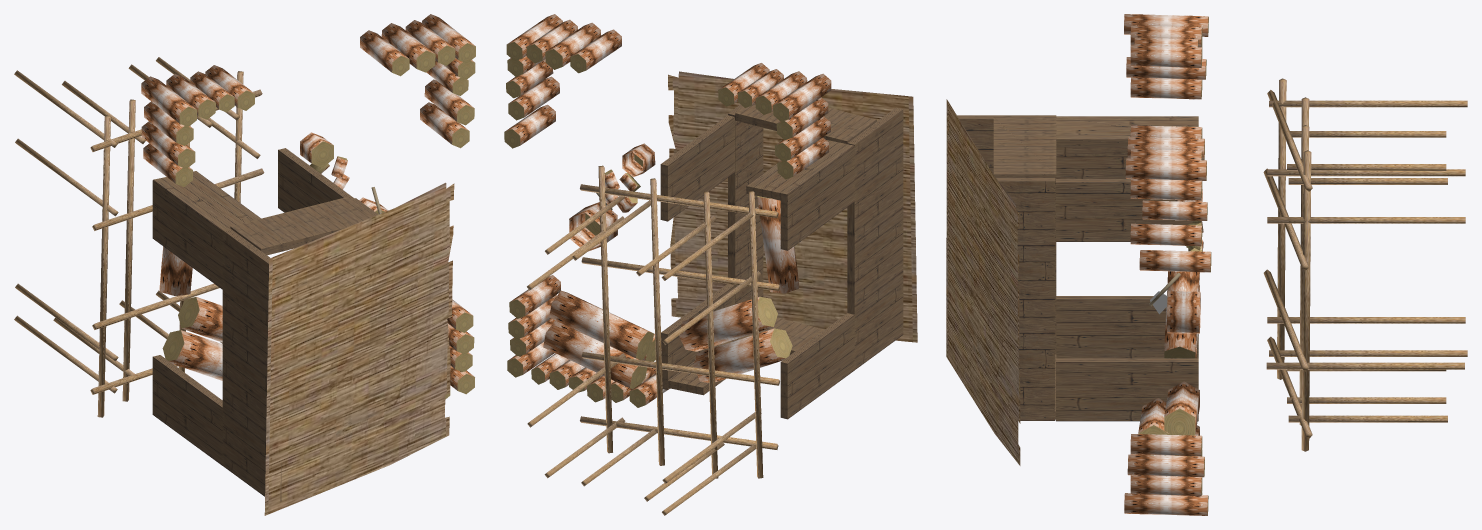
File: lumbercamp_000010.obj
3 renders of one model, left to right at view 1: azimuth 30°, elevation 25°; view 2: azimuth 150°, elevation 25°; view 3: azimuth 270°, elevation 25°, orthographic. The views are drawn at different scales.
Visible parts, largest first — view 1: Cube.001, Cube.002, Cube, Cube.004_Cube.007, Cube.003_Cube.006, Cube.011_Cube.014, Cube.010_Cube.013, Cube.006_Cube.009, Cylinder.009_Cylinder.013, Cylinder.050_Cylinder.080, Cylinder.058_Cylinder.087, Cylinder.008_Cylinder.012 (+25 smaller); view 2: Cube, Cube.002, Cube.001, Cube.004_Cube.007, Cube.006_Cube.009, Cube.007_Cube.010, Cube.003_Cube.006, Cylinder.001_Cylinder.002, Cylinder.008_Cylinder.012, Cylinder.009_Cylinder.013, Cylinder_Cylinder.001, Cylinder.007_Cylinder.011 (+47 smaller); view 3: Cube.001, Cube.007_Cube.010, Cube.002, Cube.005_Cube.008, Cube.004_Cube.007, Cube.006_Cube.009, Cube.011_Cube.014, Cube.010_Cube.013, Cube.003_Cube.006, Cylinder.051_Cylinder.081, Cylinder.017_Cylinder.021, Cylinder.031_Cylinder.035 (+37 smaller).
Boxes of the visible parts, x1=… form: Cube.001: x1=266, y1=182, x2=454, y2=396; Cube.002: x1=264, y1=319, x2=450, y2=515; Cube: x1=222, y1=228, x2=281, y2=501; Cube.004_Cube.007: x1=152, y1=355, x2=222, y2=465; Cube.003_Cube.006: x1=152, y1=180, x2=222, y2=289; Cube.011_Cube.014: x1=230, y1=197, x2=373, y2=255; Cube.010_Cube.013: x1=152, y1=171, x2=260, y2=238; Cube.006_Cube.009: x1=278, y1=148, x2=353, y2=212; Cylinder.009_Cylinder.013: x1=162, y1=330, x2=222, y2=380; Cylinder.050_Cylinder.080: x1=97, y1=115, x2=110, y2=417; Cylinder.058_Cylinder.087: x1=122, y1=99, x2=135, y2=401; Cylinder.008_Cylinder.012: x1=178, y1=297, x2=222, y2=342; Cube: x1=847, y1=107, x2=903, y2=369; Cube.002: x1=670, y1=206, x2=917, y2=342; Cube.001: x1=668, y1=71, x2=915, y2=229; Cube.004_Cube.007: x1=780, y1=313, x2=854, y2=419; Cube.006_Cube.009: x1=660, y1=115, x2=734, y2=221; Cube.007_Cube.010: x1=728, y1=104, x2=763, y2=304; Cube.003_Cube.006: x1=780, y1=146, x2=854, y2=250; Cylinder.001_Cylinder.002: x1=549, y1=290, x2=653, y2=359; Cylinder.008_Cylinder.012: x1=679, y1=296, x2=777, y2=351; Cylinder.009_Cylinder.013: x1=693, y1=328, x2=792, y2=382; Cylinder_Cylinder.001: x1=543, y1=320, x2=647, y2=388; Cylinder.007_Cylinder.011: x1=757, y1=196, x2=798, y2=293; Cube.001: x1=946, y1=99, x2=1019, y2=346; Cube.007_Cube.010: x1=996, y1=177, x2=1055, y2=420; Cube.002: x1=946, y1=238, x2=1020, y2=465; Cube.005_Cube.008: x1=1056, y1=358, x2=1198, y2=421; Cube.004_Cube.007: x1=1056, y1=296, x2=1198, y2=358; Cube.006_Cube.009: x1=1056, y1=179, x2=1194, y2=241; Cube.011_Cube.014: x1=993, y1=117, x2=1056, y2=182; Cube.010_Cube.013: x1=1056, y1=116, x2=1198, y2=147; Cube.003_Cube.006: x1=1056, y1=147, x2=1127, y2=178; Cylinder.051_Cylinder.081: x1=1301, y1=150, x2=1311, y2=451; Cylinder.017_Cylinder.021: x1=1124, y1=493, x2=1208, y2=515; Cylinder.031_Cylinder.035: x1=1125, y1=158, x2=1206, y2=180.
Size of the model in its own units: 6.07 by 6.69 by 8.5.
